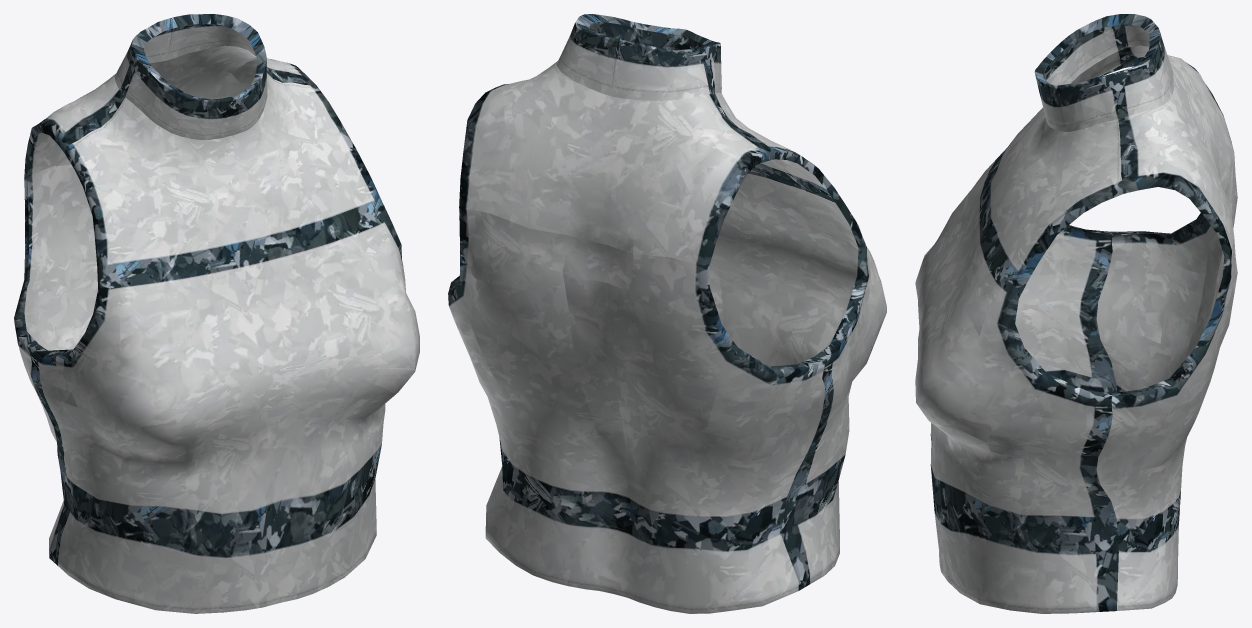
The model's file is punkduck-high-neck-crop-top.glb.
The picture shows the model from 3 angles, left to right: view 1: azimuth 30°, elevation 25°; view 2: azimuth 150°, elevation 25°; view 3: azimuth 270°, elevation 25°; orthographic projection. The views are drawn at different scales.
Parts seen in each view (by area): view 1: high neck crop top; view 2: high neck crop top; view 3: high neck crop top.
Part boxes in pixels (x1=…): high neck crop top: x1=14, y1=14, x2=419, y2=613; high neck crop top: x1=448, y1=14, x2=886, y2=613; high neck crop top: x1=915, y1=14, x2=1237, y2=613.
Size of the model in its own units: 29.13 by 42.45 by 23.69.
1 material, 1 textured.
